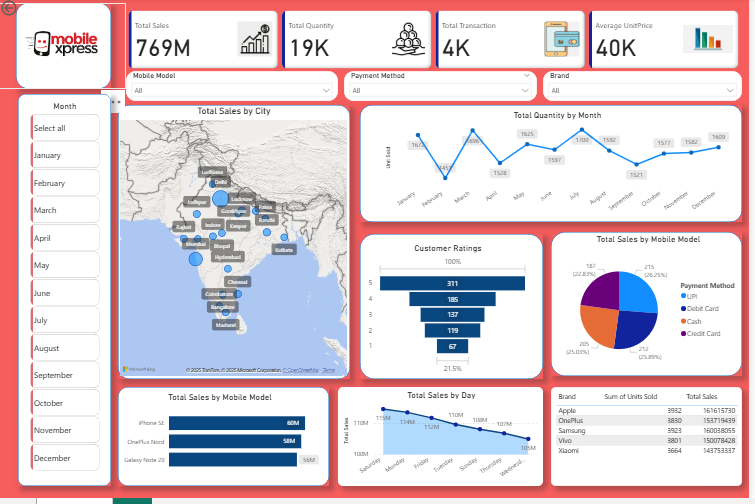

The dashboard page shown, as its layout file describes it:
{"tool":"powerbi","page":{"name":"Page 1","canvas":[1500,1000],"ordinal":0},"visuals":[{"type":"shape","box":[238,214,464,548],"z":0},{"type":"shape","box":[34.6,10.1,190.1,171.4],"z":1000},{"type":"image","box":[0,10.1,254.9,171.4],"z":2000},{"type":"shape","box":[38,192,186,784],"z":3000},{"type":"advancedSlicerVisual","fields":{"Values":["Sales Data.Date.Variation.Date Hierarchy.Month"]},"box":[58,206,148,752],"z":4000},{"type":"actionButton","box":[0,0,100,40],"z":5000},{"type":"cardVisual","fields":{"Data":["Sales Data.Total Sales","Sales Data.Total Quantity","Sales Data.Total Transaction","Sales Data.Average UnitPrice"]},"box":[254,20,1232,126],"z":6000},{"type":"shape","box":[722,214,764,234],"z":7000},{"type":"lineChart","title":"Total Quantity by Month","fields":{"Y":["Sales Data.Total Quantity"],"Category":["Sales Data.Date.Variation.Date Hierarchy.Month","Sales Data.Date.Variation.Date Hierarchy.Day"]},"box":[768,224,698,224],"z":8000},{"type":"map","fields":{"Category":["Sales Data.City"],"Size":["Sales Data.Total Sales"]},"box":[238,214,464,548],"z":9000},{"type":"shape","box":[238,778,422,198],"z":10000},{"type":"clusteredBarChart","title":"Total Sales by Mobile Model","fields":{"Category":["Sales Data.Mobile Model"],"Y":["Sales Data.Total Sales"]},"box":[238,788,408,170],"z":11000},{"type":"shape","box":[1104,468,382,288],"z":12000},{"type":"pieChart","title":"Total Sales by Mobile Model","fields":{"Category":["Sales Data.Payment Method"],"Y":["Sales Data.Total Transaction"]},"box":[1112,472,374,284],"z":13000},{"type":"shape","box":[722,472,366,290],"z":14000},{"type":"funnel","title":"Customer Ratings","fields":{"Category":["Sales Data.Customer Ratings"],"Y":["CountNonNull(Sales Data.Customer Ratings)"]},"box":[734,490,328,266],"z":15000},{"type":"areaChart","title":"Total Sales by Day","fields":{"Y":["Sales Data.Total Sales"],"Category":["Sales Data.Day Name"]},"box":[678,778,410,198],"z":16000},{"type":"tableEx","fields":{"Values":["Sales Data.Brand","Sum(Sales Data.Units Sold)","Sales Data.Total Sales"]},"box":[1104,778,382,198],"z":17000},{"type":"slicer","fields":{"Values":["Sales Data.Mobile Model"]},"box":[254,146,424,60],"z":18000},{"type":"slicer","fields":{"Values":["Sales Data.Payment Method"]},"box":[690,146,386,60],"z":19000},{"type":"slicer","fields":{"Values":["Sales Data.Brand"]},"box":[1088,146,398,60],"z":20000}]}

Visuals, with their boxes in screenshot pixels (x1, y1, x2, y2), scaled from the page's 1500x1000 canvas onto the 755x504 screenshot:
shape: l=120, t=108, r=353, b=384
shape: l=17, t=5, r=113, b=91
image: l=0, t=5, r=128, b=91
shape: l=19, t=97, r=113, b=492
advancedSlicerVisual - Sales Data.Date.Variation.Date Hierarchy.Month: l=29, t=104, r=104, b=483
actionButton: l=0, t=0, r=50, b=20
cardVisual - Sales Data.Total Sales x Sales Data.Total Quantity: l=128, t=10, r=748, b=74
shape: l=363, t=108, r=748, b=226
"Total Quantity by Month" lineChart: l=387, t=113, r=738, b=226
map - Sales Data.City x Sales Data.Total Sales: l=120, t=108, r=353, b=384
shape: l=120, t=392, r=332, b=492
"Total Sales by Mobile Model" clusteredBarChart: l=120, t=397, r=325, b=483
shape: l=556, t=236, r=748, b=381
"Total Sales by Mobile Model" pieChart: l=560, t=238, r=748, b=381
shape: l=363, t=238, r=548, b=384
"Customer Ratings" funnel: l=369, t=247, r=535, b=381
"Total Sales by Day" areaChart: l=341, t=392, r=548, b=492
tableEx - Sales Data.Brand x Sum(Sales Data.Units Sold): l=556, t=392, r=748, b=492
slicer - Sales Data.Mobile Model: l=128, t=74, r=341, b=104
slicer - Sales Data.Payment Method: l=347, t=74, r=542, b=104
slicer - Sales Data.Brand: l=548, t=74, r=748, b=104
